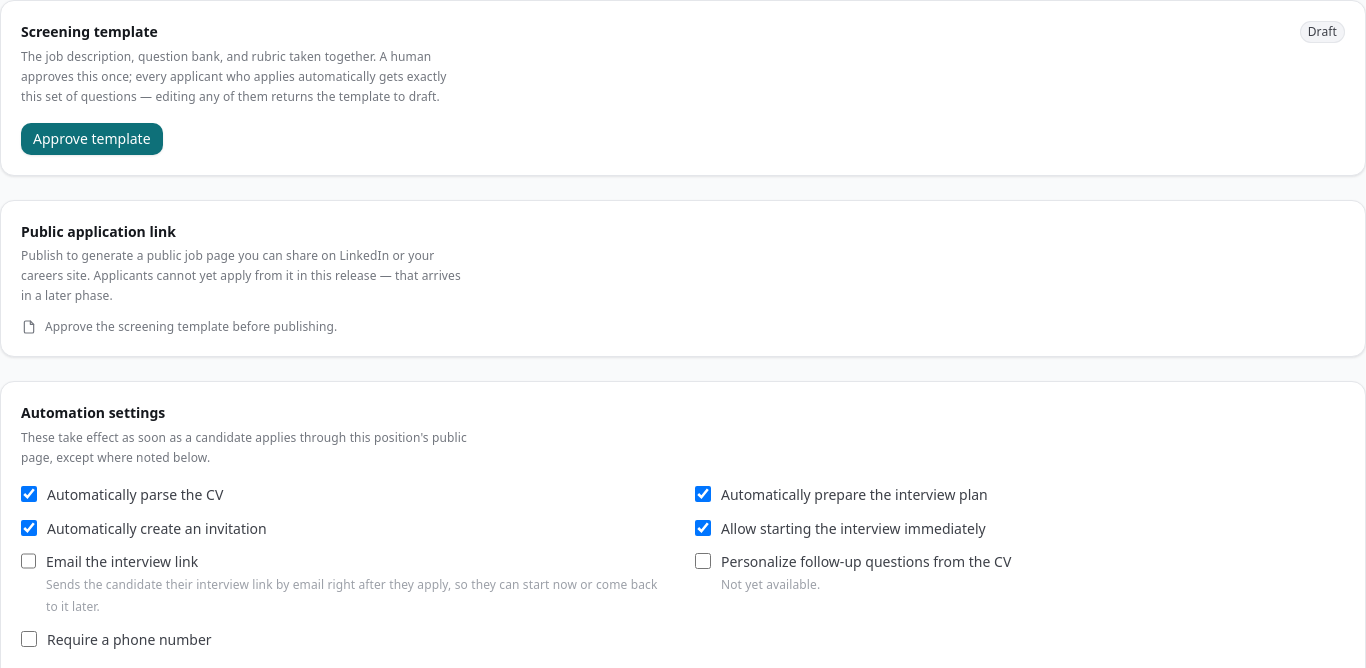
it: ScreeningSetupPanel › approves the template, then publishes and shows the copyable application link
Step 1. Click the button "Approve template" → (92, 139), box [21, 123, 163, 155]
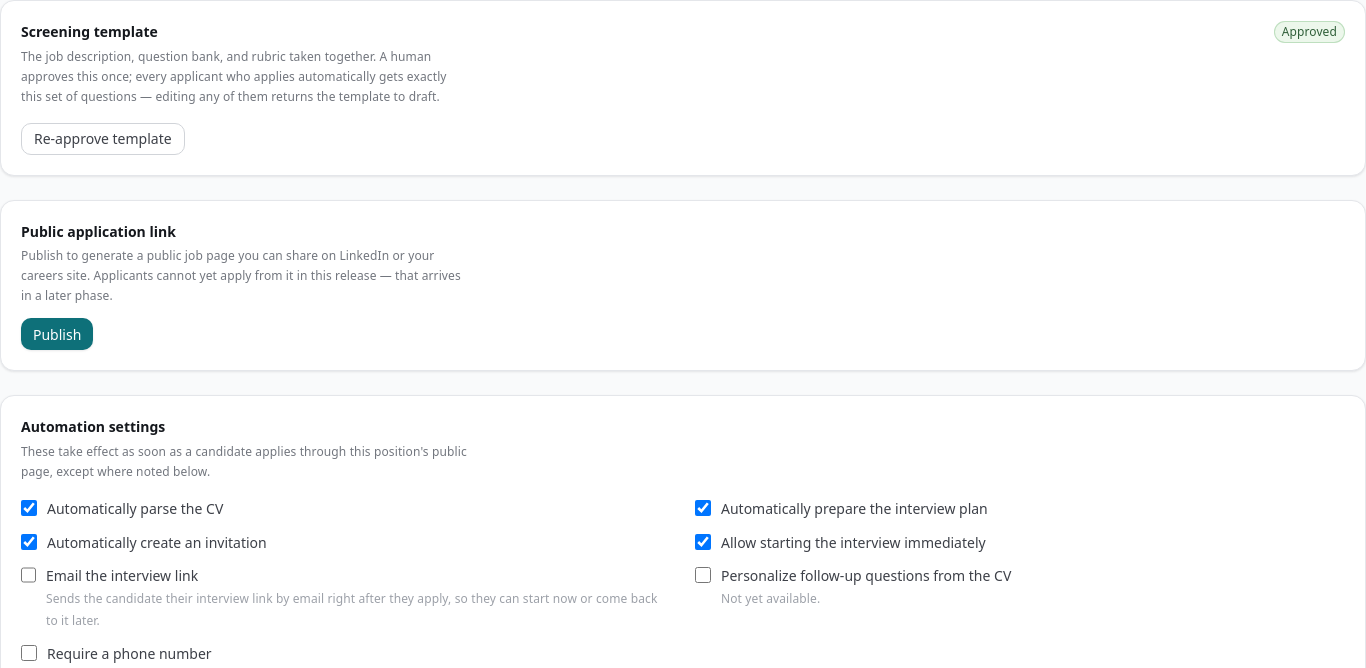
Expected: the text "Approved" is shown, [1274, 21, 1345, 43]
Step 2. Click the button "Publish" → (57, 334), box [21, 318, 93, 350]
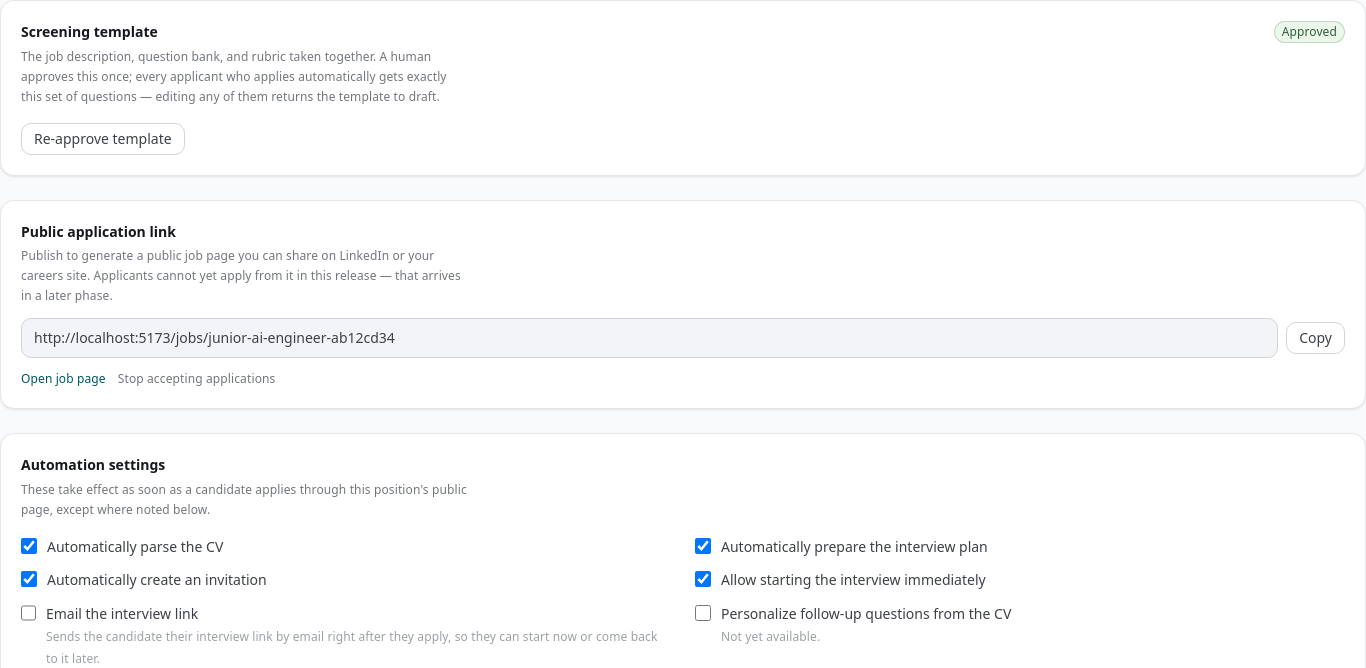
Expected: the field showing "http://localhost:5173/jobs/junior-ai-engineer-ab12cd34" is shown, [21, 318, 1278, 358]
